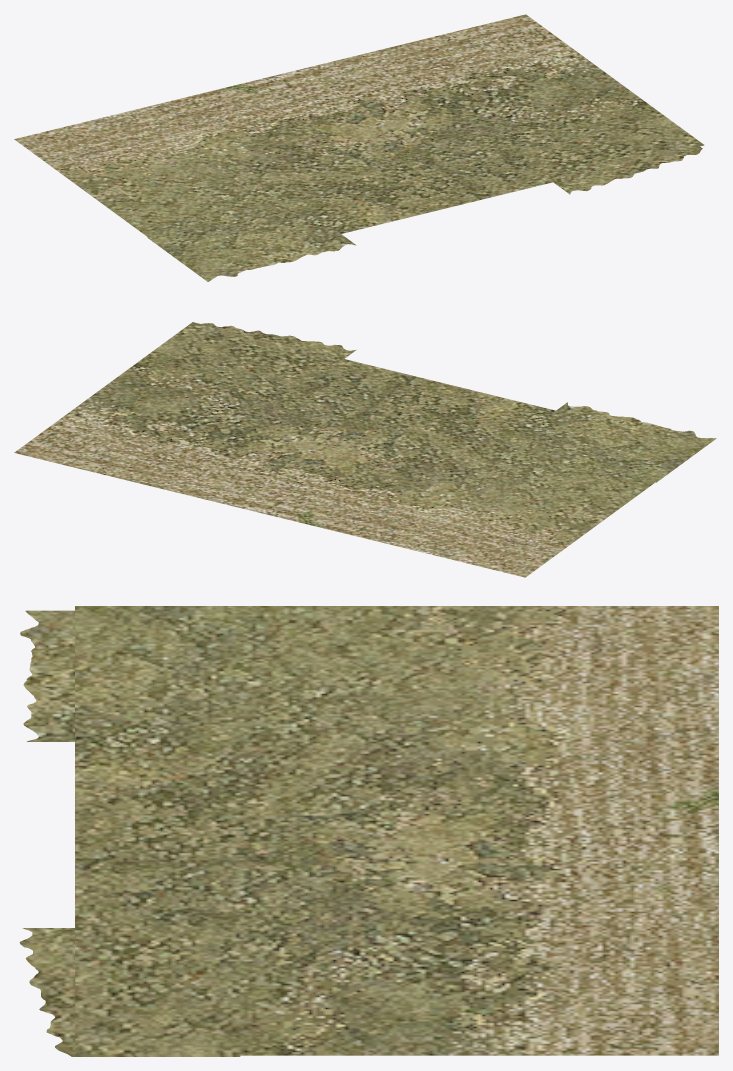
Rendered from celt_temple_turf.dae.
3 views of the same model, one above another, from view 1: azimuth 30°, elevation 25°; view 2: azimuth 150°, elevation 25°; view 3: azimuth 270°, elevation 25° (orthographic). The views are drawn at different scales.
Parts seen in each view (by area): view 1: default008; view 2: default008; view 3: default008.
Part boxes in pixels (bbox=[...]): default008: bbox=[14, 14, 704, 281]; default008: bbox=[14, 322, 716, 577]; default008: bbox=[19, 606, 718, 1056].
Size of the model in its own units: 19.62 by 0.0742 by 13.
